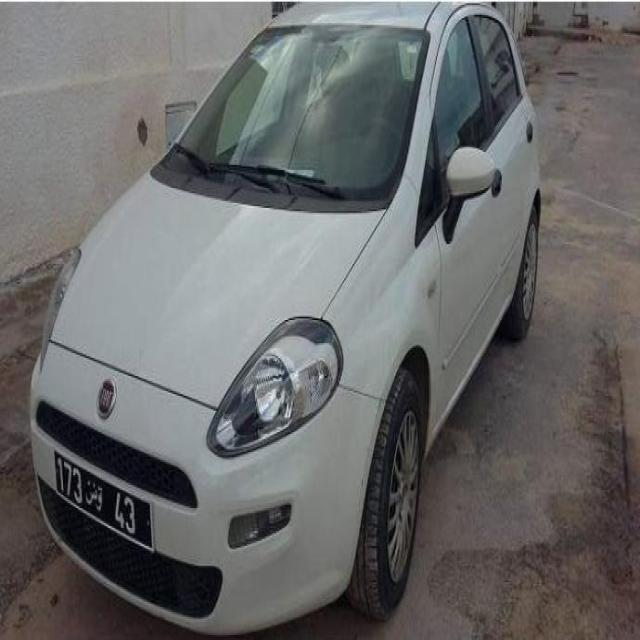LP: (49, 446, 155, 554)
